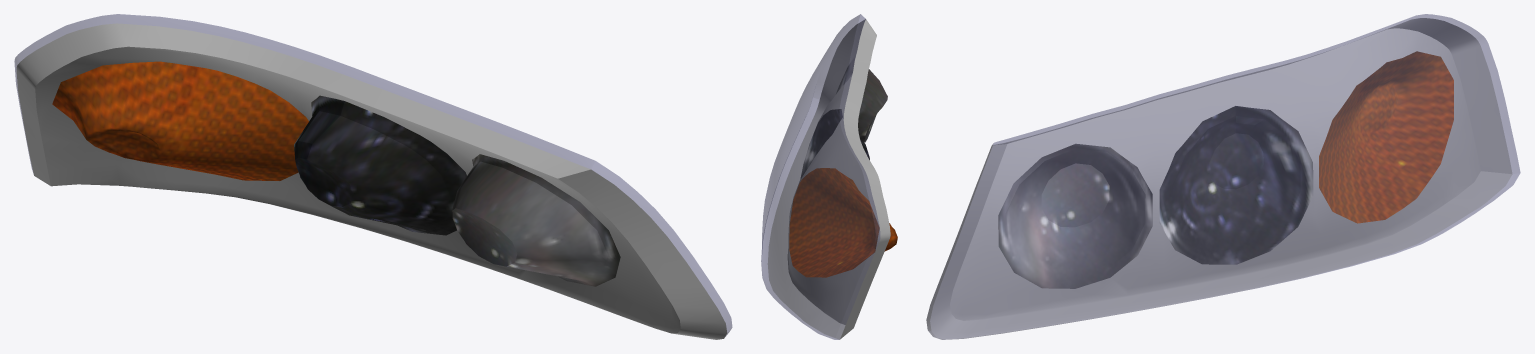
3 views of the same model, side by side, from view 1: azimuth 30°, elevation 25°; view 2: azimuth 150°, elevation 25°; view 3: azimuth 270°, elevation 25° (orthographic). The views are drawn at different scales.
Visible parts, largest first — view 1: U416_061B_L_U416_061B_L_4_DaS, U416_061B_L_U416_061B_L_3_N, U416_061B_L_U416_061B_L_2_N, U416_061B_L_1_N_U416_061B_L, U416_061B_L_U416_061B_L_5_DTaSI; view 2: U416_061B_L_U416_061B_L_5_DTaSI, U416_061B_L_U416_061B_L_4_DaS, U416_061B_L_U416_061B_L_3_N, U416_061B_L_1_N_U416_061B_L, U416_061B_L_U416_061B_L_2_N; view 3: U416_061B_L_U416_061B_L_5_DTaSI, U416_061B_L_U416_061B_L_4_DaS, U416_061B_L_U416_061B_L_2_N, U416_061B_L_1_N_U416_061B_L, U416_061B_L_U416_061B_L_3_N.
Boxes of the visible parts, left/top/right/bottom form: U416_061B_L_U416_061B_L_4_DaS: left=16, top=23, right=727, bottom=339; U416_061B_L_U416_061B_L_3_N: left=52, top=61, right=308, bottom=180; U416_061B_L_U416_061B_L_2_N: left=294, top=95, right=466, bottom=235; U416_061B_L_1_N_U416_061B_L: left=452, top=154, right=620, bottom=286; U416_061B_L_U416_061B_L_5_DTaSI: left=14, top=14, right=732, bottom=336; U416_061B_L_U416_061B_L_5_DTaSI: left=761, top=14, right=880, bottom=339; U416_061B_L_U416_061B_L_4_DaS: left=767, top=19, right=890, bottom=339; U416_061B_L_U416_061B_L_3_N: left=789, top=168, right=897, bottom=277; U416_061B_L_1_N_U416_061B_L: left=836, top=56, right=887, bottom=142; U416_061B_L_U416_061B_L_2_N: left=800, top=109, right=869, bottom=179; U416_061B_L_U416_061B_L_5_DTaSI: left=926, top=14, right=1520, bottom=339; U416_061B_L_U416_061B_L_4_DaS: left=926, top=18, right=1512, bottom=339; U416_061B_L_U416_061B_L_2_N: left=1159, top=106, right=1313, bottom=264; U416_061B_L_1_N_U416_061B_L: left=998, top=144, right=1152, bottom=288; U416_061B_L_U416_061B_L_3_N: left=1319, top=51, right=1453, bottom=223.
Bounding box in the file's own units: 35.57 × 17.93 × 51.57.
